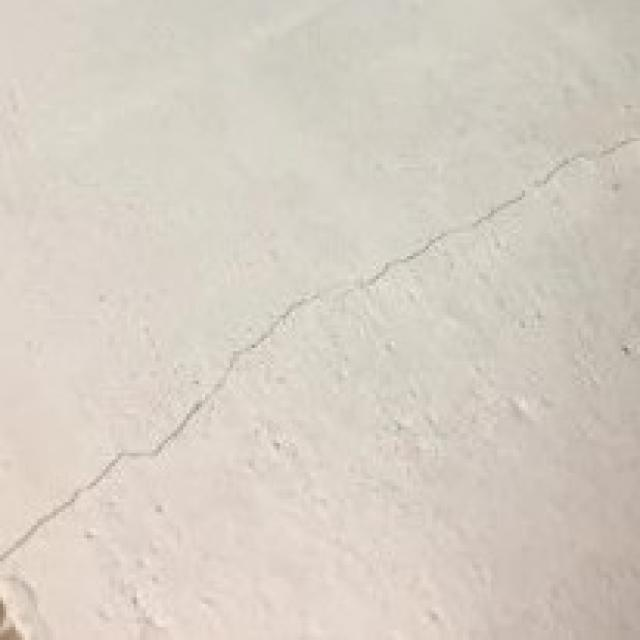diagonal crack: (9, 132, 640, 547)
